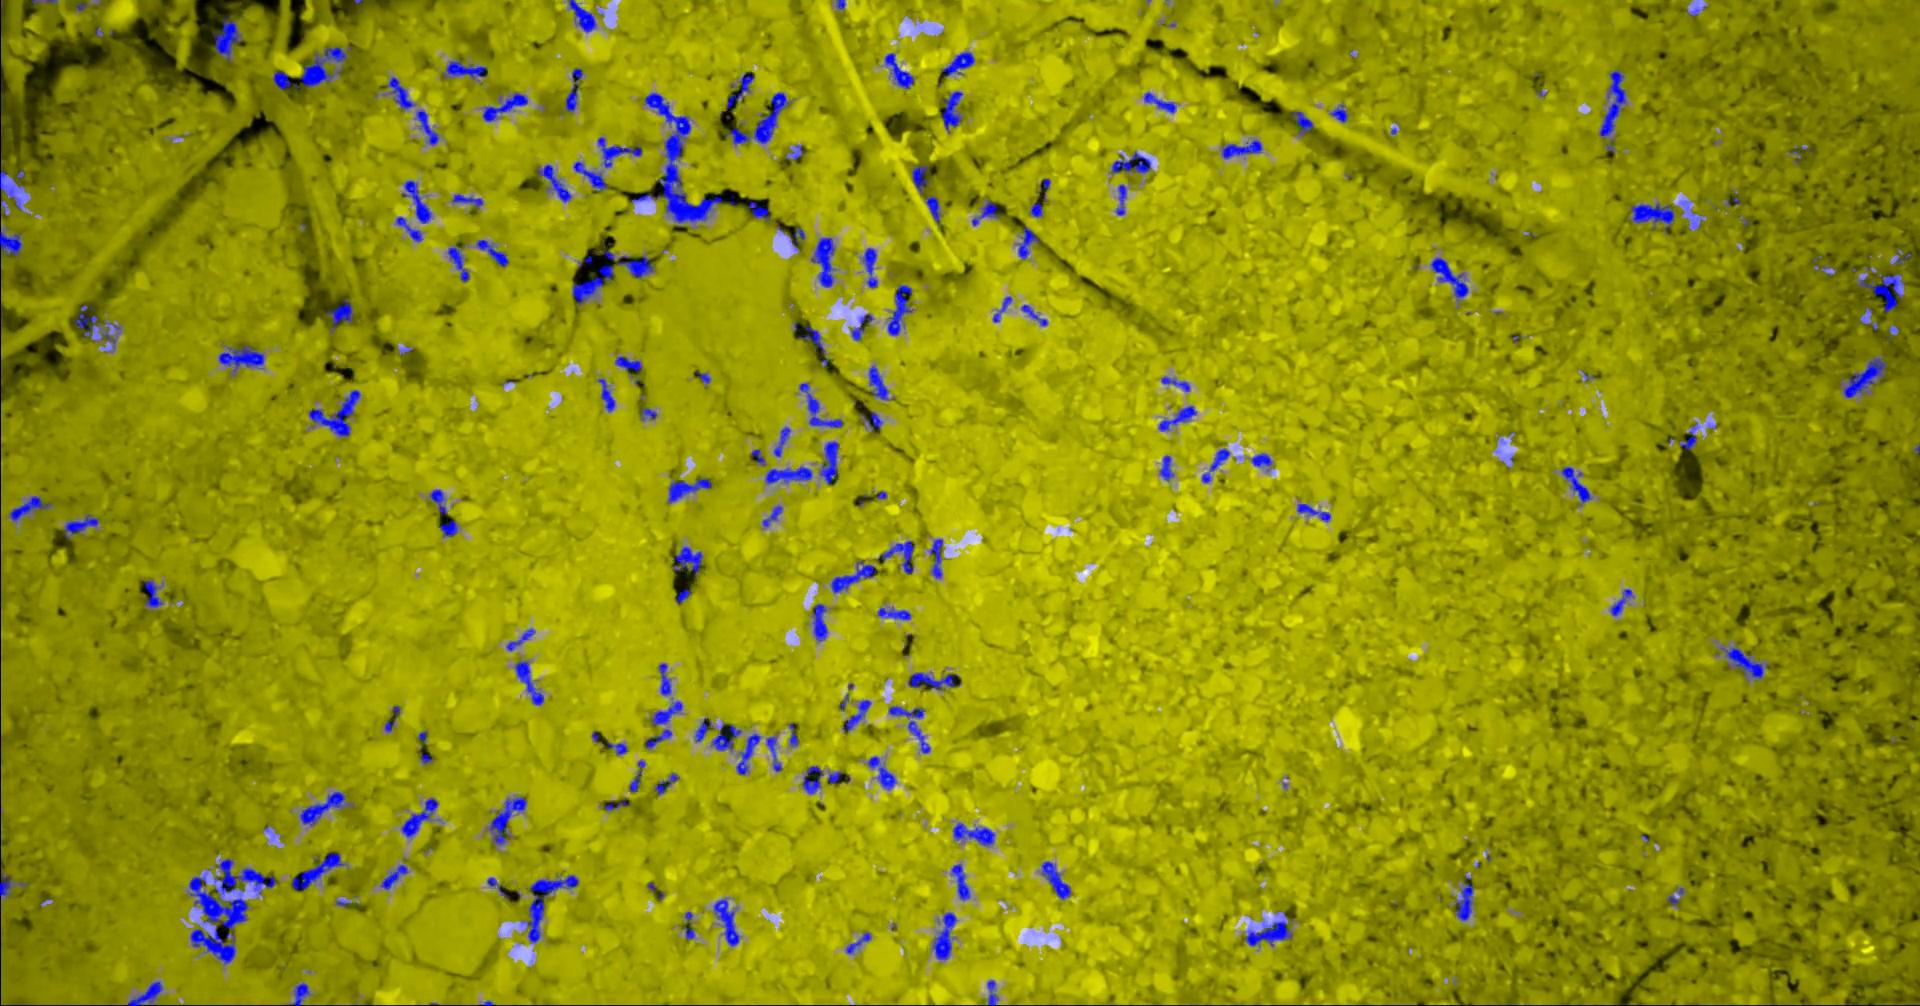ant: (527, 875, 578, 942), (725, 91, 789, 144), (272, 46, 345, 89), (309, 389, 361, 436), (797, 382, 842, 427), (888, 706, 930, 753), (291, 852, 343, 889), (1857, 273, 1903, 312), (488, 796, 526, 845), (1599, 69, 1625, 137), (1843, 357, 1886, 398), (571, 264, 613, 304), (1430, 257, 1468, 300), (298, 791, 345, 826), (599, 249, 653, 278), (401, 796, 437, 837), (1724, 647, 1768, 680), (830, 560, 875, 592), (0, 158, 24, 216), (597, 136, 641, 166), (535, 164, 570, 201), (483, 91, 527, 121), (712, 898, 739, 946), (1243, 920, 1291, 946), (213, 15, 241, 61), (401, 180, 430, 224), (1630, 203, 1674, 232), (514, 661, 543, 704), (888, 285, 912, 335), (877, 540, 914, 573), (797, 325, 827, 366), (218, 344, 263, 371), (932, 912, 956, 959), (811, 238, 834, 287), (1561, 466, 1590, 504), (1041, 861, 1070, 898), (9, 495, 51, 521), (726, 71, 753, 111), (668, 478, 711, 502), (884, 52, 913, 88), (571, 161, 607, 191), (1158, 405, 1196, 431), (385, 76, 414, 109), (940, 90, 963, 132), (952, 822, 994, 845), (737, 733, 759, 774), (670, 546, 702, 575), (325, 298, 353, 332), (1201, 448, 1229, 481), (867, 756, 895, 789), (568, 0, 596, 32), (842, 699, 870, 730), (907, 672, 959, 688), (127, 981, 163, 1005), (443, 60, 488, 79), (476, 239, 508, 265), (941, 51, 974, 76), (63, 514, 98, 539), (819, 441, 838, 484), (711, 723, 742, 749), (1111, 151, 1150, 171), (764, 466, 811, 483), (447, 245, 469, 281), (1455, 876, 1473, 920), (415, 111, 438, 144), (74, 304, 97, 337), (1222, 138, 1261, 158), (1017, 225, 1039, 259), (651, 701, 682, 725), (971, 199, 999, 225), (380, 864, 408, 889), (951, 862, 970, 899), (565, 69, 582, 111), (1143, 91, 1175, 113), (395, 216, 422, 241), (505, 627, 535, 650), (850, 312, 872, 340), (869, 366, 888, 399), (862, 246, 877, 287), (0, 229, 22, 257), (597, 379, 615, 412), (1297, 503, 1330, 521), (910, 164, 930, 194), (811, 603, 827, 641), (1021, 304, 1048, 325), (1610, 588, 1632, 615), (801, 765, 822, 793), (1289, 111, 1313, 133), (766, 735, 781, 771), (844, 932, 871, 953), (100, 320, 119, 348), (924, 196, 941, 227), (645, 728, 670, 748), (992, 296, 1011, 323), (615, 356, 641, 375), (143, 580, 163, 607), (773, 426, 790, 456), (930, 539, 942, 578), (654, 774, 678, 794), (451, 193, 483, 208), (629, 760, 644, 791), (747, 199, 770, 220), (488, 876, 509, 897), (860, 412, 883, 431), (0, 857, 11, 895), (290, 982, 309, 1005), (695, 716, 712, 741), (1161, 376, 1189, 391), (429, 489, 446, 514), (877, 606, 910, 619), (602, 738, 627, 754), (762, 506, 782, 526), (1679, 426, 1697, 448), (658, 663, 670, 695), (1159, 455, 1173, 480), (1115, 184, 1126, 215), (603, 796, 627, 810), (1251, 453, 1271, 470), (789, 226, 804, 248), (683, 911, 695, 939), (1330, 104, 1347, 122), (439, 520, 457, 536), (1029, 197, 1043, 217), (418, 747, 433, 763), (785, 145, 803, 159), (987, 981, 997, 1005), (750, 448, 764, 465), (639, 406, 657, 419), (789, 721, 797, 746), (676, 588, 690, 603), (827, 771, 841, 782)
